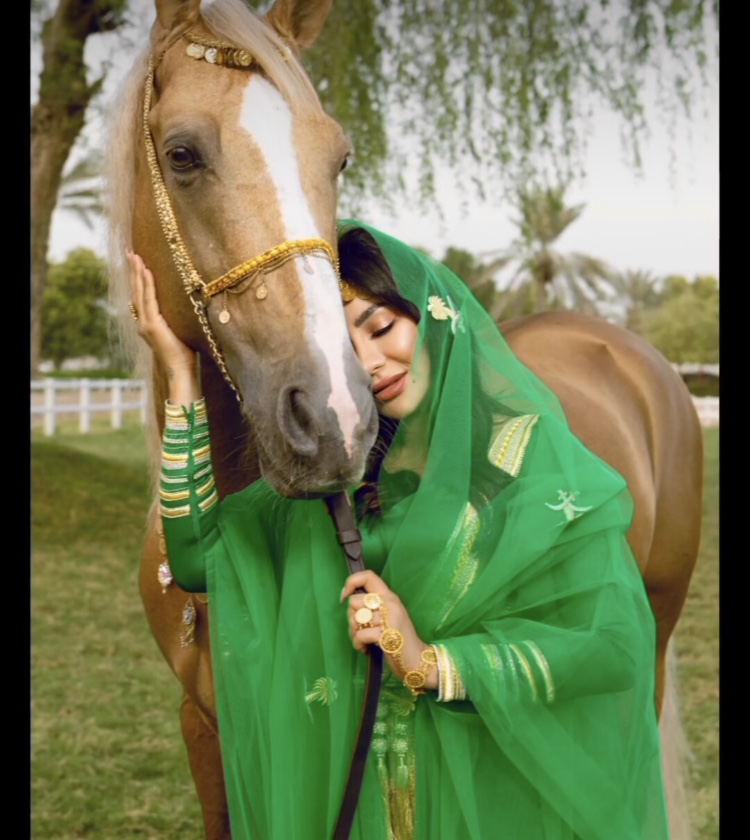Saudi_Founding_Day: (124, 217, 672, 840)
